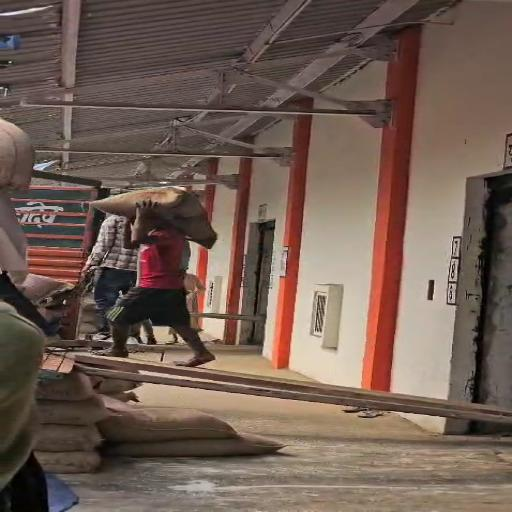bag: (91, 183, 228, 252)
